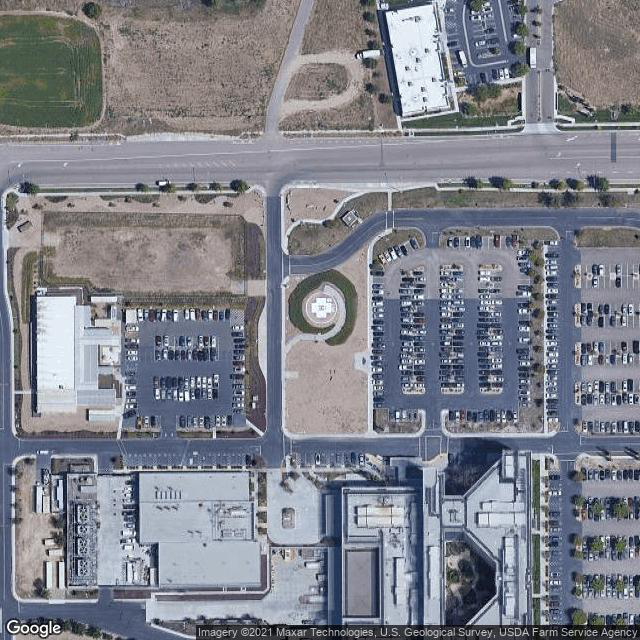Helipad: (303, 289, 342, 329)
